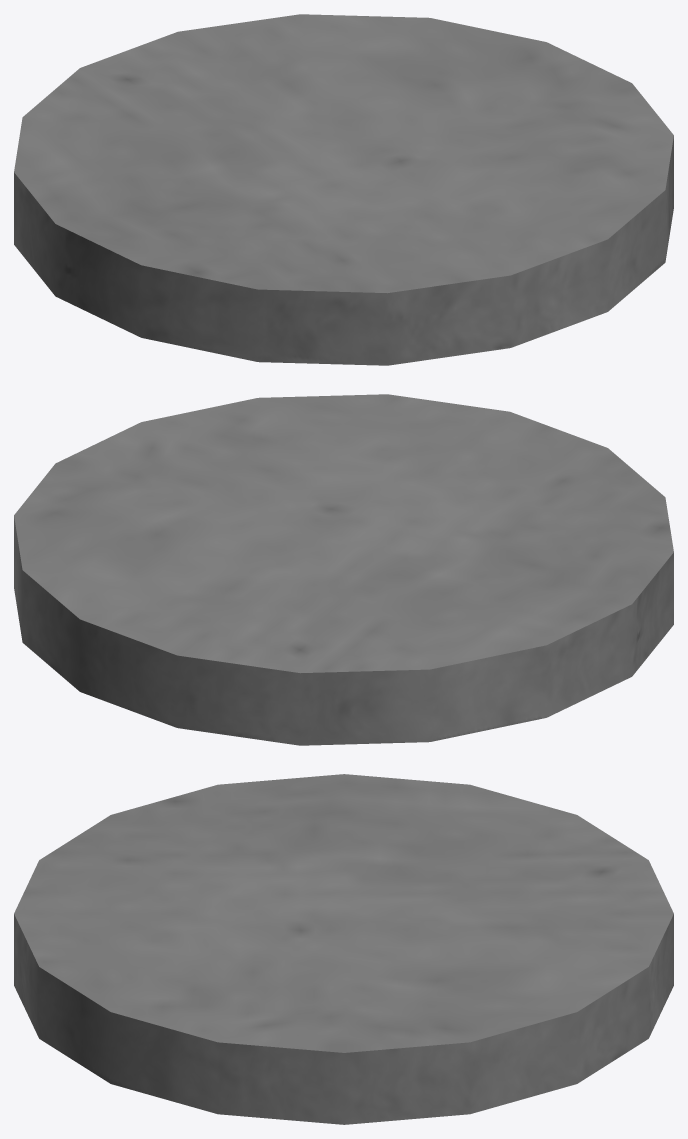
File: Lamp_1.fbx
3 renders of one model, top to bottom at view 1: azimuth 30°, elevation 25°; view 2: azimuth 150°, elevation 25°; view 3: azimuth 270°, elevation 25°, orthographic.
Parts seen in each view (by area): view 1: Lamp_ceiling_circle; view 2: Lamp_ceiling_circle; view 3: Lamp_ceiling_circle.
Part boxes in pixels (box(x1,y1,x2,y2)): Lamp_ceiling_circle: box(14, 14, 673, 365); Lamp_ceiling_circle: box(14, 394, 673, 745); Lamp_ceiling_circle: box(14, 774, 673, 1124).
Size of the model in its own units: 16.31 by 1.96 by 16.31.
